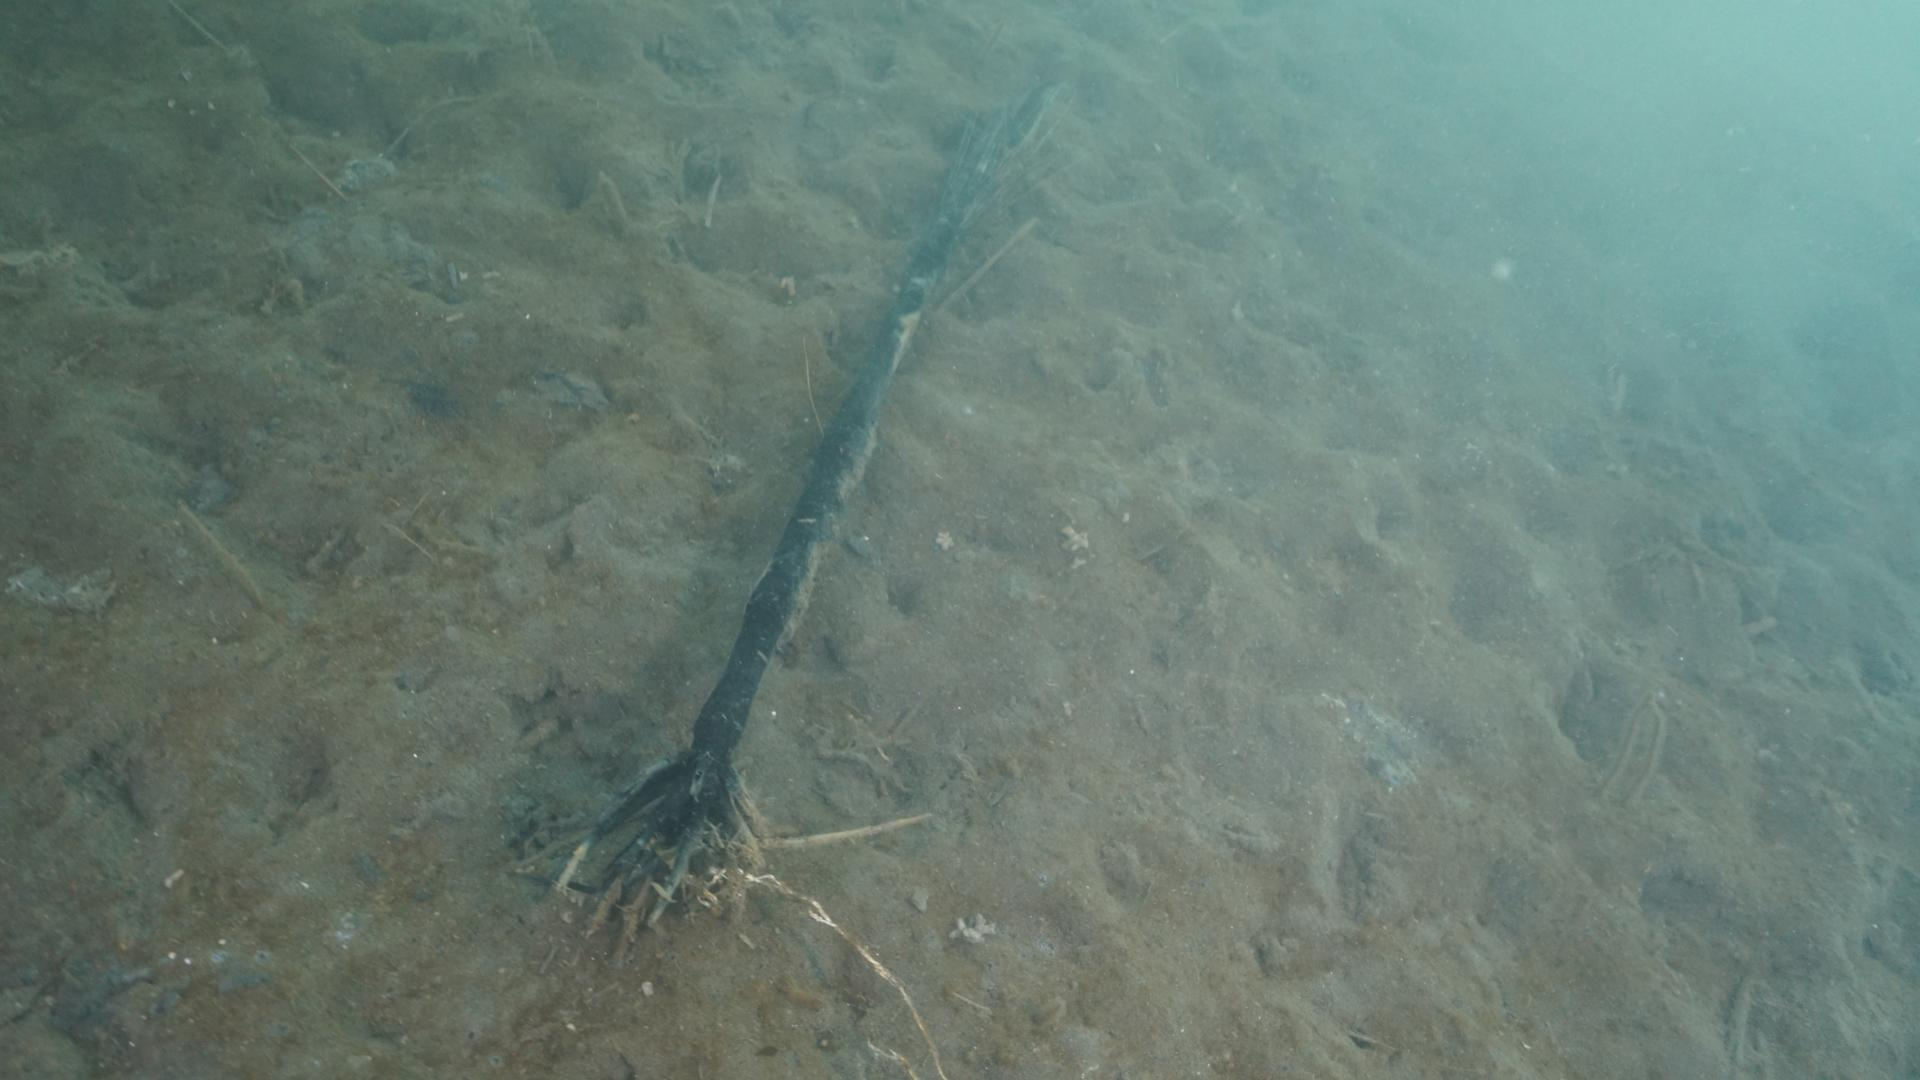wood: (549, 84, 1058, 924)
